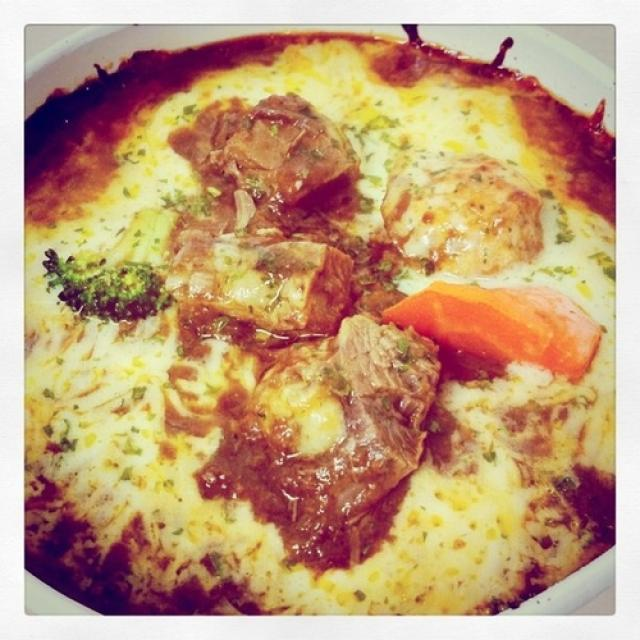米饭主食: (33, 40, 610, 599)
